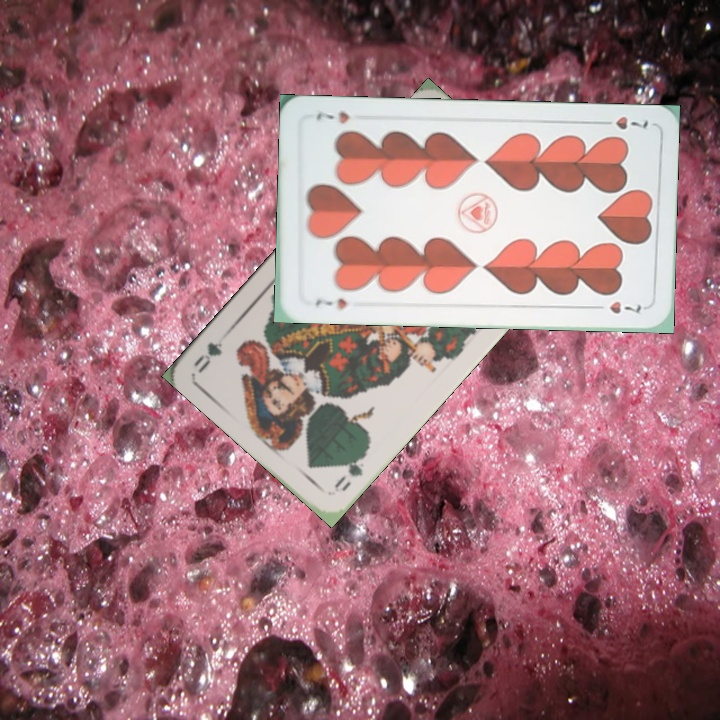GO: (330, 446, 370, 495)
H7: (594, 112, 651, 133), (311, 294, 349, 312)
